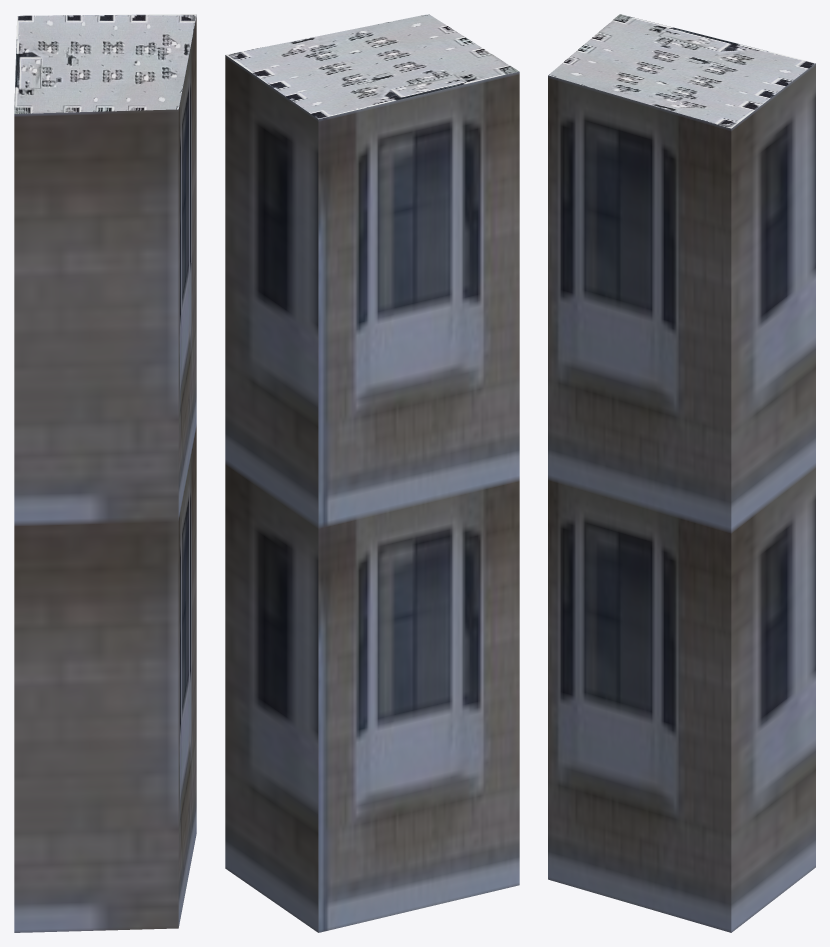
Rendered from ResTex__3448.fbx.
3 views of the same model, side by side, from view 1: azimuth 30°, elevation 25°; view 2: azimuth 150°, elevation 25°; view 3: azimuth 270°, elevation 25° (orthographic).
Parts seen in each view (by area): view 1: CityEngineMaterial_3_m, CityEngineMaterial_8_m; view 2: CityEngineMaterial_3_m, CityEngineMaterial_8_m; view 3: CityEngineMaterial_3_m, CityEngineMaterial_8_m.
Boxes of the visible parts, box(x1,y1,x2,y2) form: CityEngineMaterial_3_m: box(14, 15, 196, 932); CityEngineMaterial_8_m: box(14, 14, 196, 113); CityEngineMaterial_3_m: box(225, 55, 519, 932); CityEngineMaterial_8_m: box(226, 14, 518, 119); CityEngineMaterial_3_m: box(548, 63, 815, 932); CityEngineMaterial_8_m: box(548, 14, 815, 128).
Size of the model in its own units: 1.83 by 6 by 1.81.
Materials: 2 (2 with a texture image).
